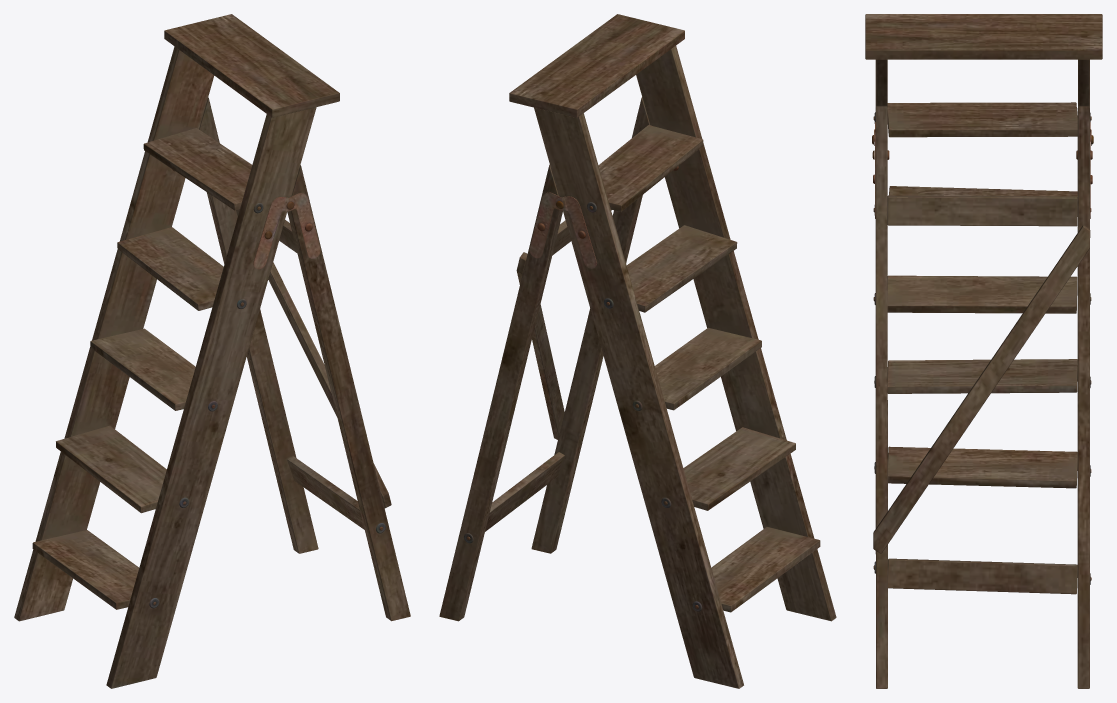
File: wooden_ladder_02.glb
3 views of the same model, side by side, from view 1: azimuth 30°, elevation 25°; view 2: azimuth 150°, elevation 25°; view 3: azimuth 270°, elevation 25° (orthographic). The views are drawn at different scales.
Visible parts, largest first — view 1: wooden_ladder_02; view 2: wooden_ladder_02; view 3: wooden_ladder_02.
Part boxes in pixels (left/top/right/bottom): wooden_ladder_02: left=14, top=14, right=410, bottom=688; wooden_ladder_02: left=439, top=14, right=836, bottom=688; wooden_ladder_02: left=865, top=14, right=1102, bottom=688.
Bounding box in the file's own units: 0.9895 × 1.72 × 0.6181.
1 material, 1 textured.
